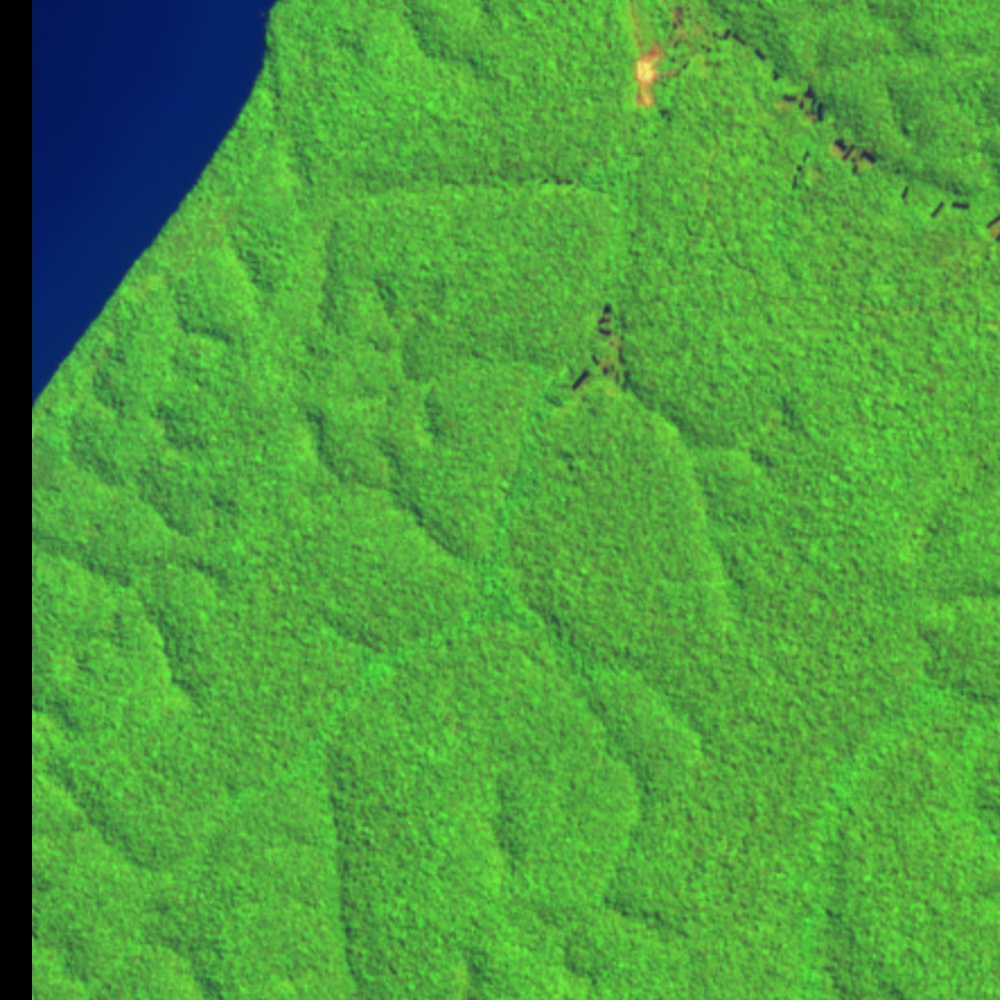illegal: (627, 1, 890, 187), (559, 293, 643, 406), (898, 179, 1000, 252)
